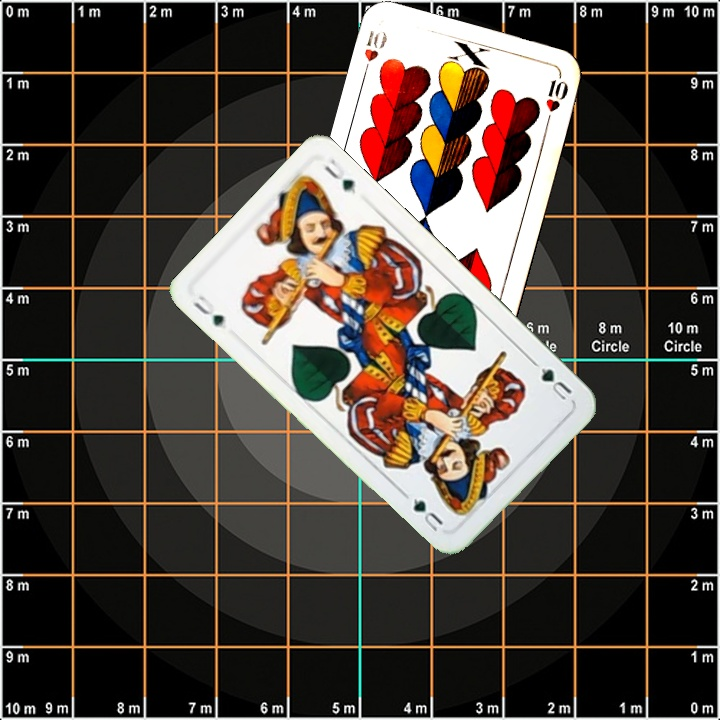GU: (536, 363, 575, 403), (188, 291, 227, 330)
H10: (358, 26, 390, 81)
